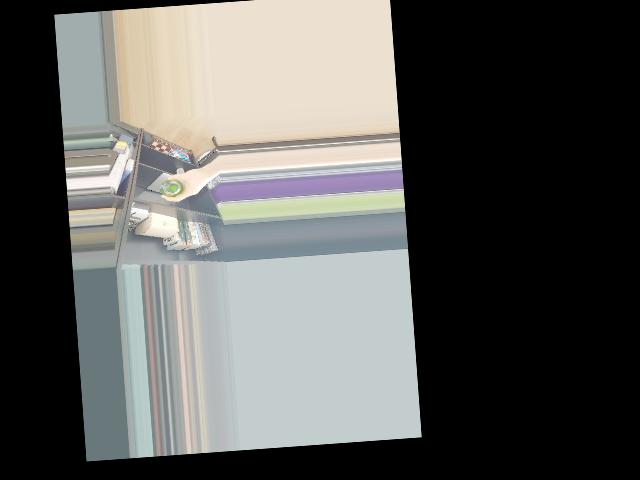beer: (161, 177, 183, 197)
